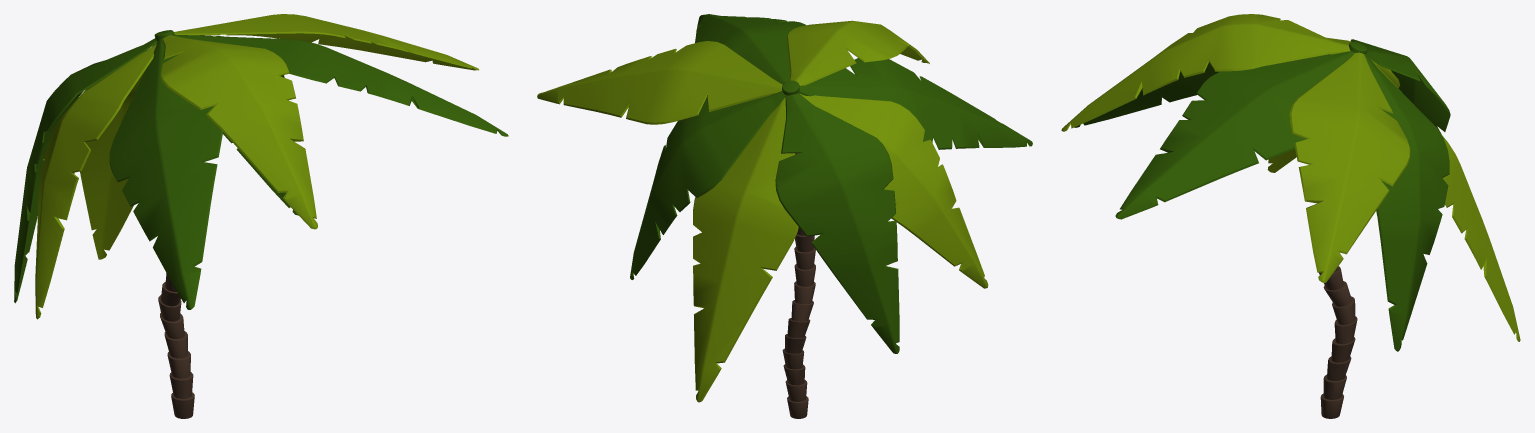
The model's file is PalmTree03.fbx.
3 views of the same model, side by side, from view 1: azimuth 30°, elevation 25°; view 2: azimuth 150°, elevation 25°; view 3: azimuth 270°, elevation 25° (orthographic). The views are drawn at different scales.
Parts seen in each view (by area): view 1: PalmTree03; view 2: PalmTree03; view 3: PalmTree03.
Boxes of the visible parts, x1,y1,x2,y2 form: PalmTree03: (14, 14, 508, 418); PalmTree03: (537, 14, 1032, 418); PalmTree03: (1061, 14, 1520, 418).
Size of the model in its own units: 726 by 586 by 628.
